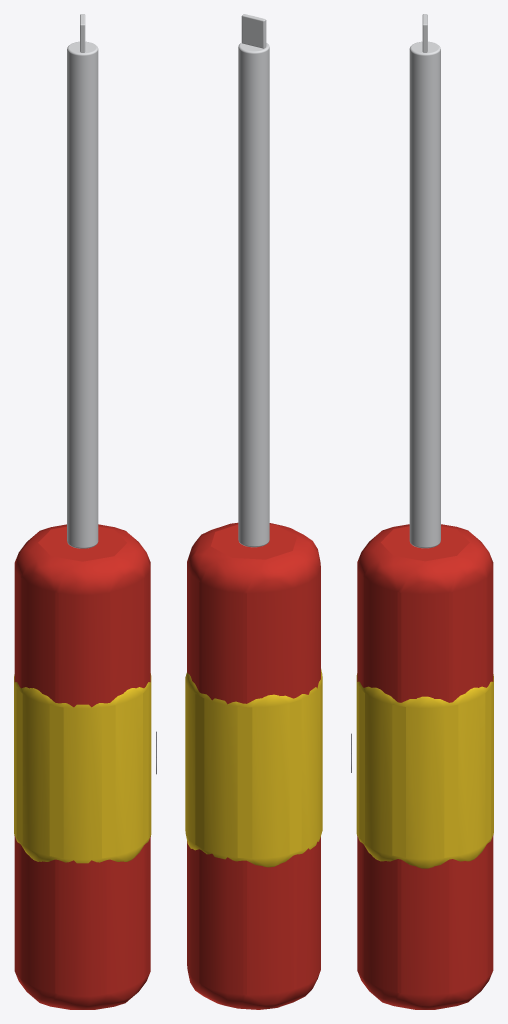
The model's file is screwdriver.glb.
The picture shows the model from 3 angles, left to right: view 1: azimuth 90°, elevation 25°; view 2: azimuth 150°, elevation 25°; view 3: azimuth 270°, elevation 25°; orthographic projection.
Parts seen in each view (by area): view 1: body; view 2: body; view 3: body.
Part boxes in pixels (x1,y1,x2,y2): body: (14,14,156,1009); body: (185,14,322,1009); body: (351,14,493,1009).
Bounding box in the file's own units: 0.0264 × 0.206 × 0.0274.
